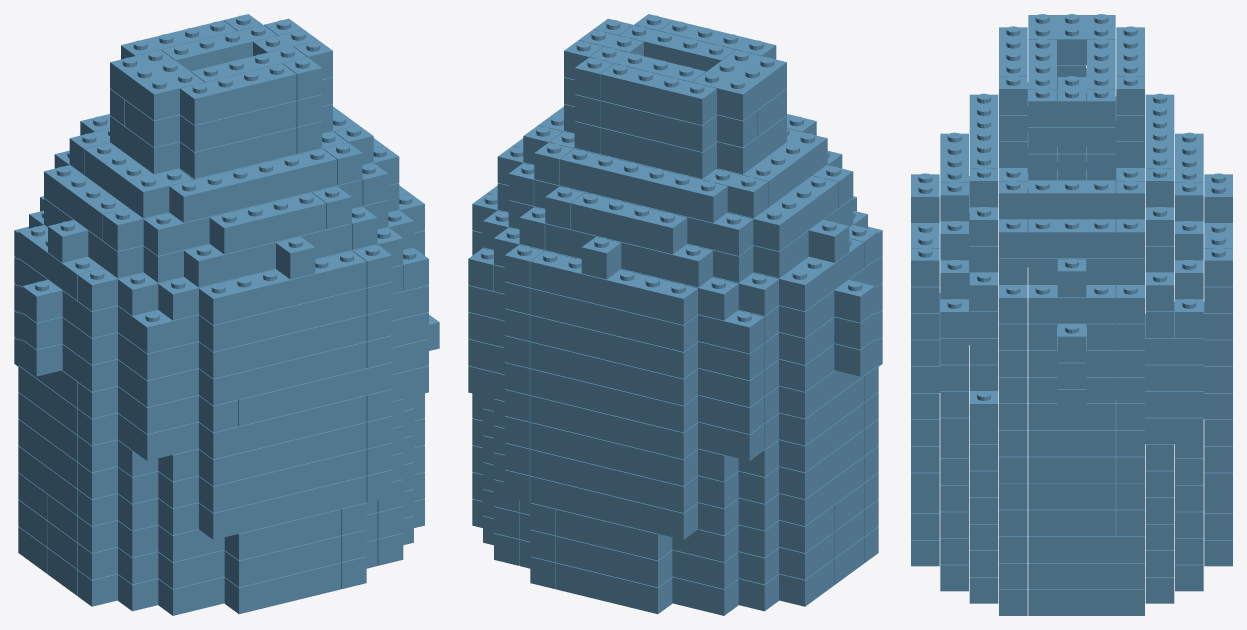
Rendered from 081_bottle_L1.glb.
The picture shows the model from 3 angles, left to right: view 1: azimuth 30°, elevation 25°; view 2: azimuth 150°, elevation 25°; view 3: azimuth 270°, elevation 25°; orthographic projection.
Size of the model in its own units: 14.98 by 18.13 by 10.98.
